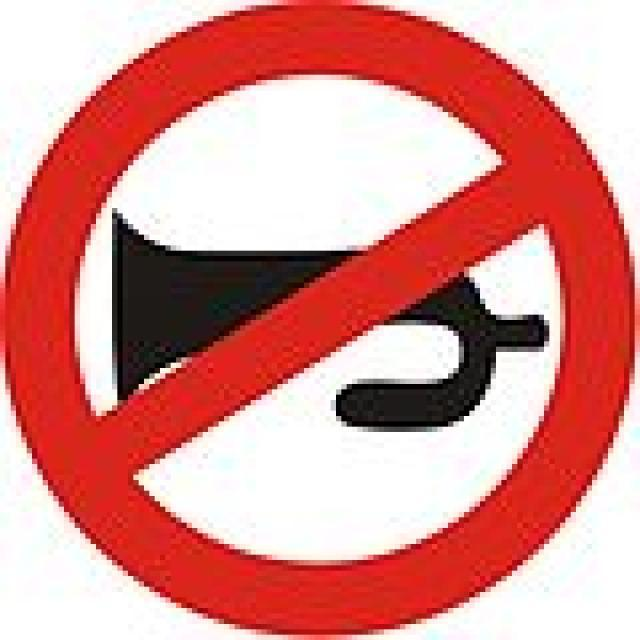Horn prohibited: (0, 5, 640, 640)
